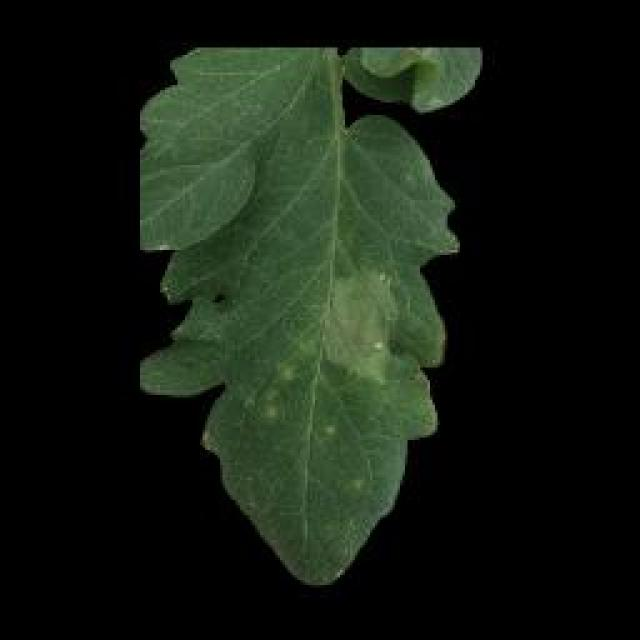Tomato Late Blight: (250, 52, 455, 573)
